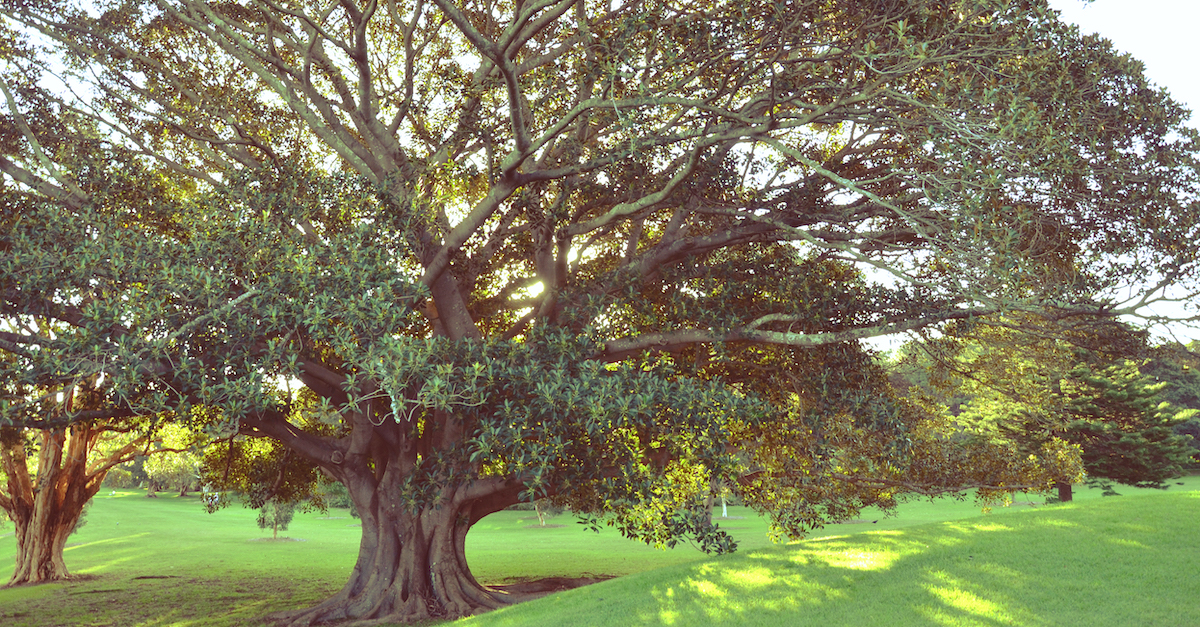grass: (476, 485, 1195, 620), (74, 493, 352, 623)
tree: (300, 408, 531, 624), (4, 436, 126, 586)
